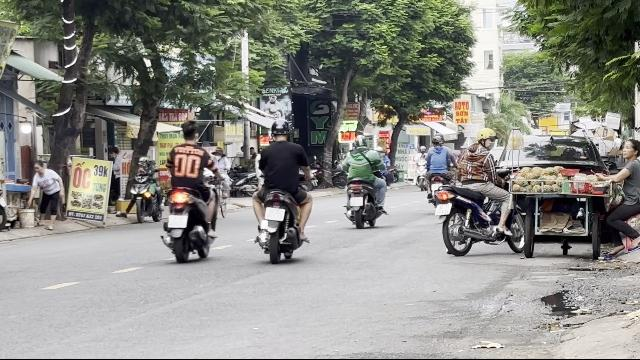helmet: (268, 118, 290, 142), (476, 128, 496, 148)
licenseplate: (264, 207, 286, 221), (168, 216, 188, 228), (434, 203, 452, 215)
motorcyclist: (433, 125, 523, 257), (249, 119, 313, 263), (160, 120, 220, 262)
nohelmet: (180, 120, 200, 144)
